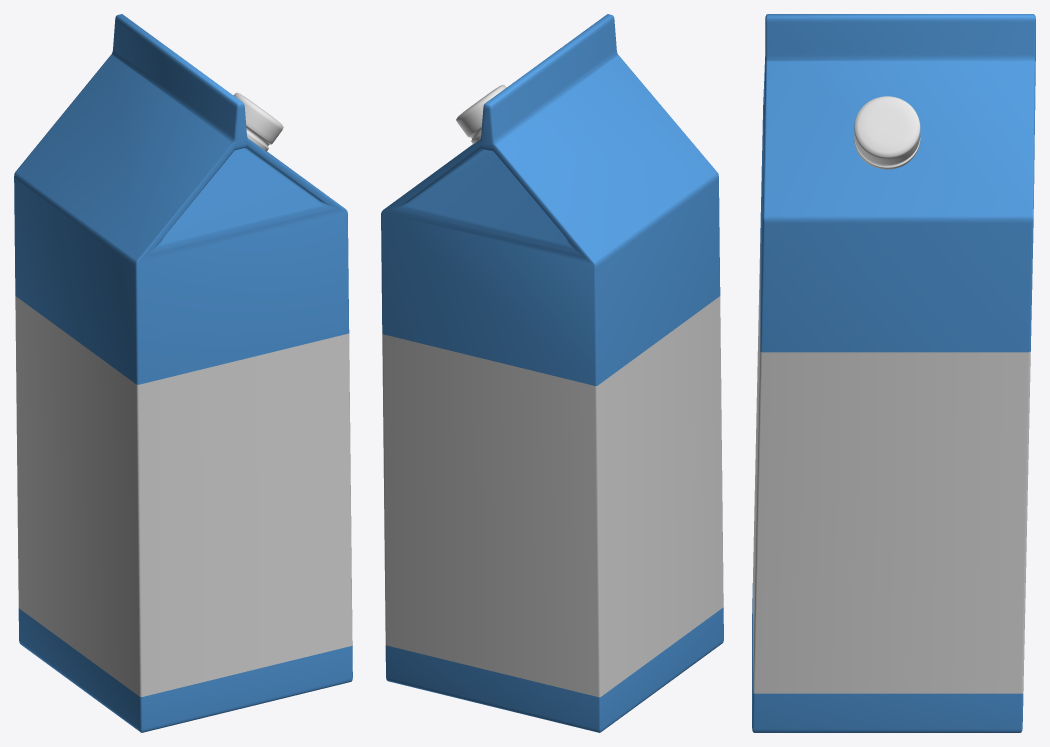
Rendered from MilkCarton.fbx.
3 views of the same model, side by side, from view 1: azimuth 30°, elevation 25°; view 2: azimuth 150°, elevation 25°; view 3: azimuth 270°, elevation 25° (orthographic). The views are drawn at different scales.
Parts seen in each view (by area): view 1: Cube, Cylinder; view 2: Cube, Cylinder; view 3: Cube, Cylinder.
Part boxes in pixels (bbox=[...]): Cube: bbox=[14, 14, 352, 732]; Cylinder: bbox=[233, 92, 283, 151]; Cube: bbox=[381, 14, 723, 732]; Cylinder: bbox=[456, 84, 506, 144]; Cube: bbox=[752, 14, 1035, 732]; Cylinder: bbox=[854, 96, 920, 169].
Size of the model in its own units: 19 by 51.26 by 19.92.
